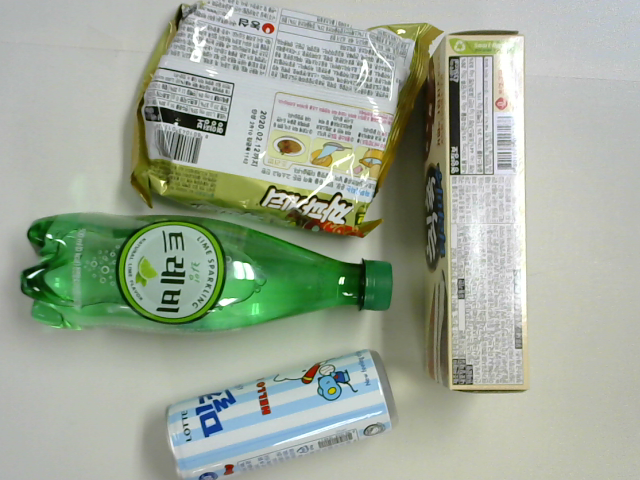Chicchok_Tiramisu: (423, 28, 529, 396)
Milkies_250ml: (164, 348, 398, 480)
Olive_Chapaghetti: (131, 1, 443, 239)
Treviraim_500ml: (20, 209, 392, 334)
